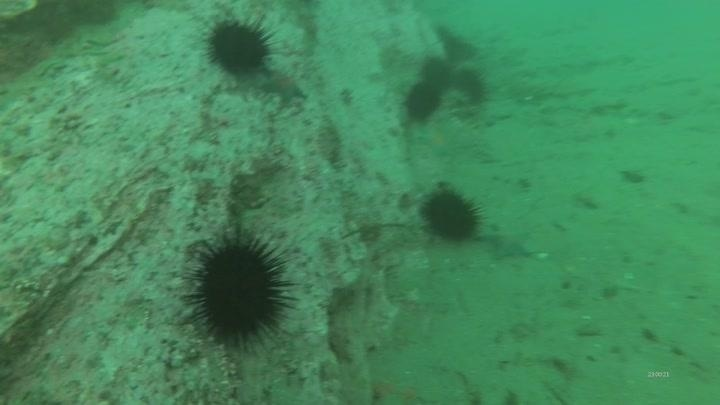echinus: (184, 230, 294, 349), (202, 15, 276, 80), (418, 184, 486, 245), (401, 81, 443, 123), (451, 65, 490, 104), (439, 31, 478, 64), (419, 55, 454, 90)
starfish: (478, 223, 537, 262), (259, 70, 309, 104), (417, 123, 458, 158)
